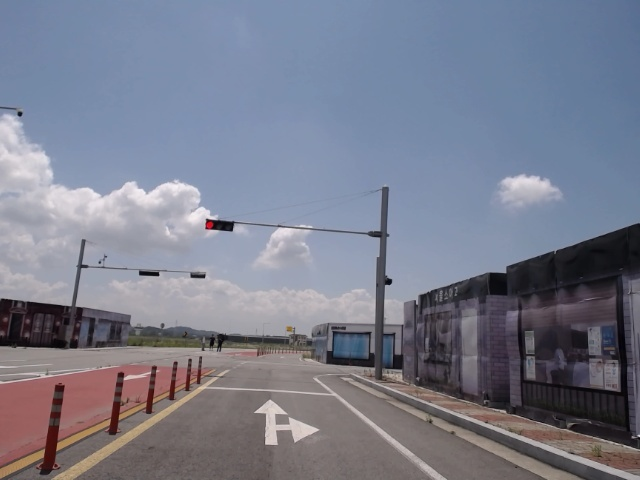red_3: (204, 219, 234, 233)
